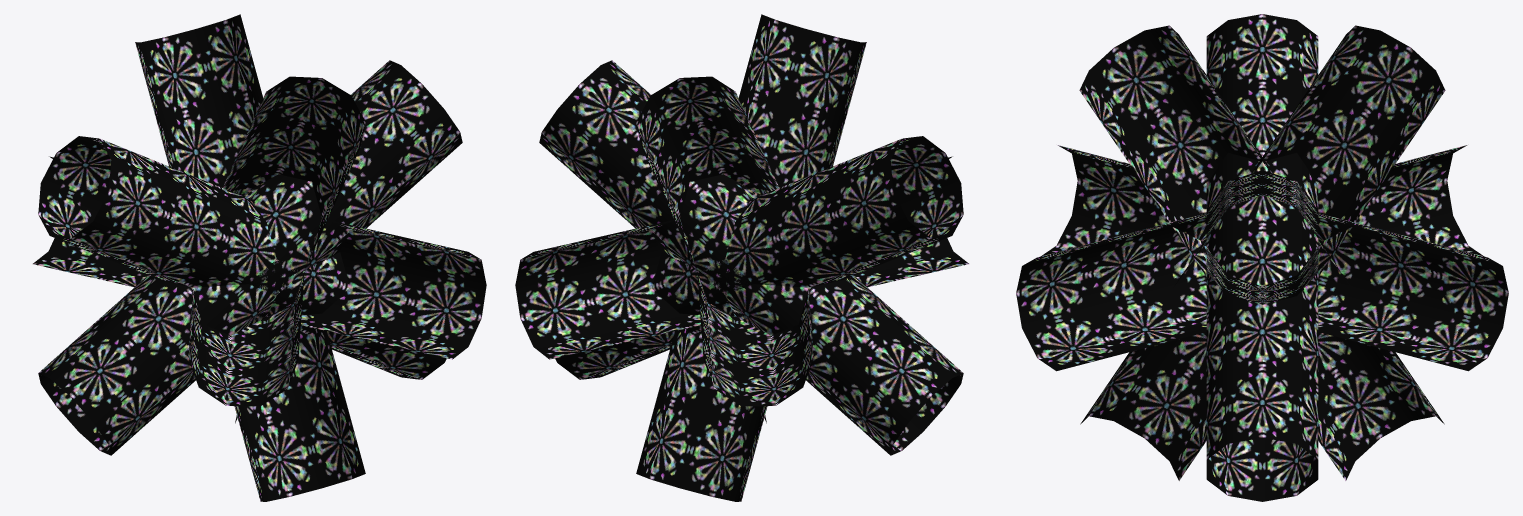
File: SmallIcosihemidodecacron1.gltf
The picture shows the model from 3 angles, left to right: view 1: azimuth 30°, elevation 25°; view 2: azimuth 150°, elevation 25°; view 3: azimuth 270°, elevation 25°; orthographic projection. The views are drawn at different scales.
Parts seen in each view (by area): view 1: SmallIcosihemidodecacron1; view 2: SmallIcosihemidodecacron1; view 3: SmallIcosihemidodecacron1.
Boxes of the visible parts, x1,y1,x2,y2 form: SmallIcosihemidodecacron1: [33, 14, 486, 501]; SmallIcosihemidodecacron1: [515, 14, 968, 501]; SmallIcosihemidodecacron1: [1016, 14, 1508, 501].
Bounding box in the file's own units: 13.61 × 13.61 × 13.61.
Materials: 1 (1 with a texture image).
